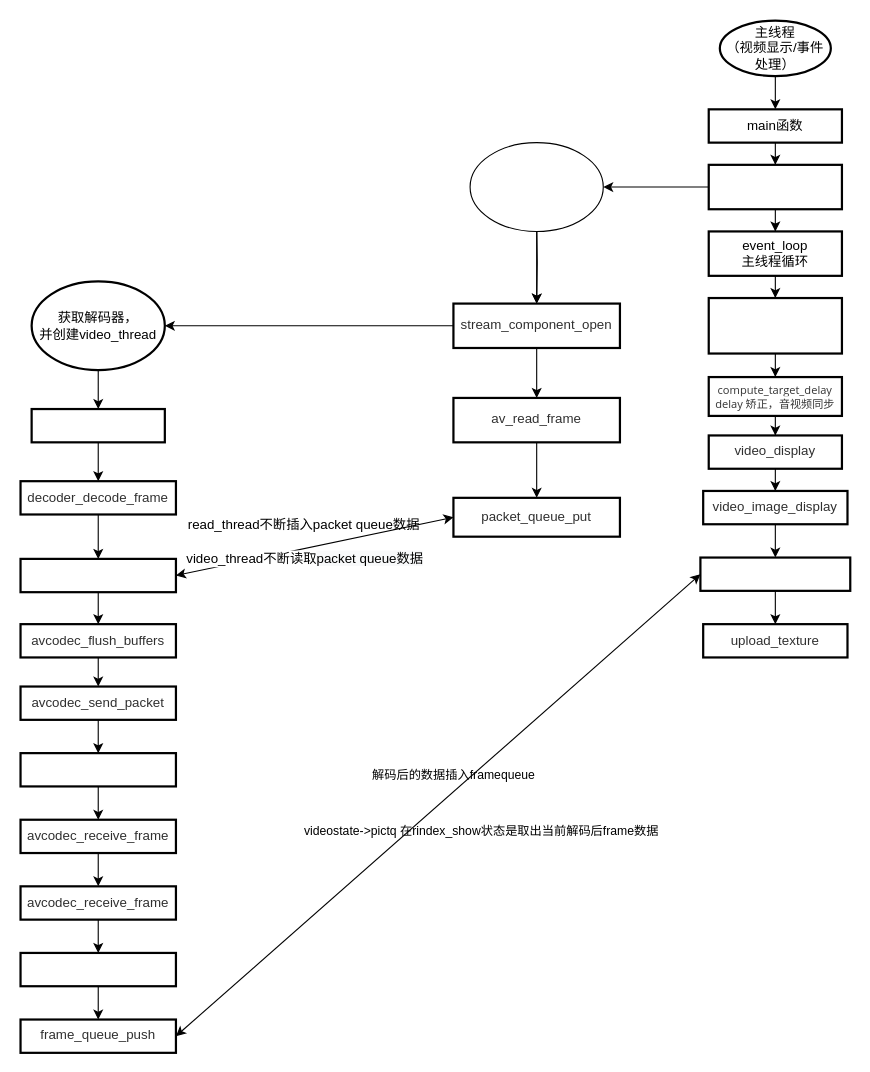
This 870x1072 diagram has some shape labels left out. The centre of each missing label's shape, as x and y in pixels:
av_packet_move_ref: point (97, 769)
frame_queue_peek_last: point (775, 573)
get_video_frame: point (97, 425)
openstream() 创建解复用线程: point (774, 186)
packet_queue_get: point (97, 575)
queue_picture: point (97, 969)
refresh_loop_wait_event video_refresh: point (774, 325)
SDL_CreatThread 创建read_thread: point (536, 186)
